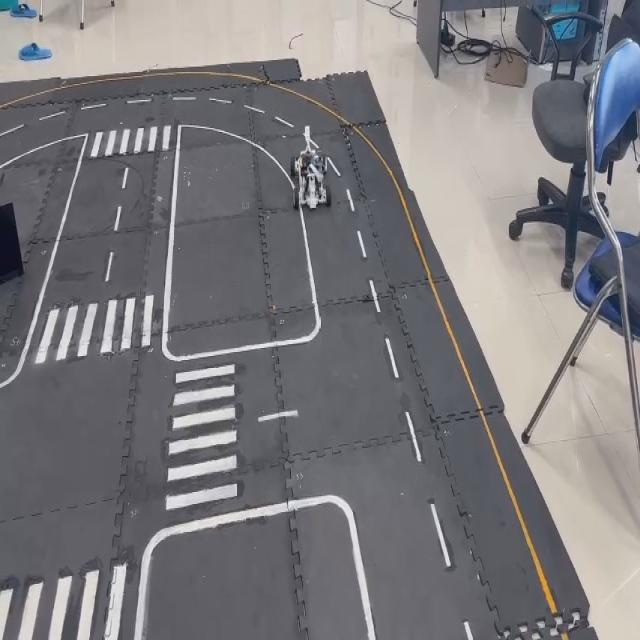SiCo-CAR: (289, 124, 332, 211)
